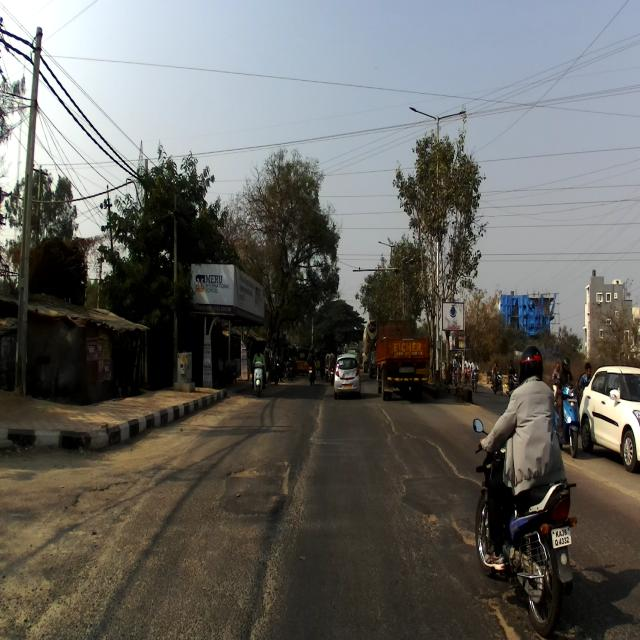motorcycle ahead at: (509, 472, 577, 632)
truck ahead at: (371, 312, 433, 400)
